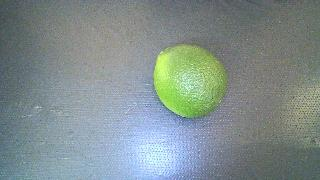EXPORTACION: (154, 44, 227, 118)
